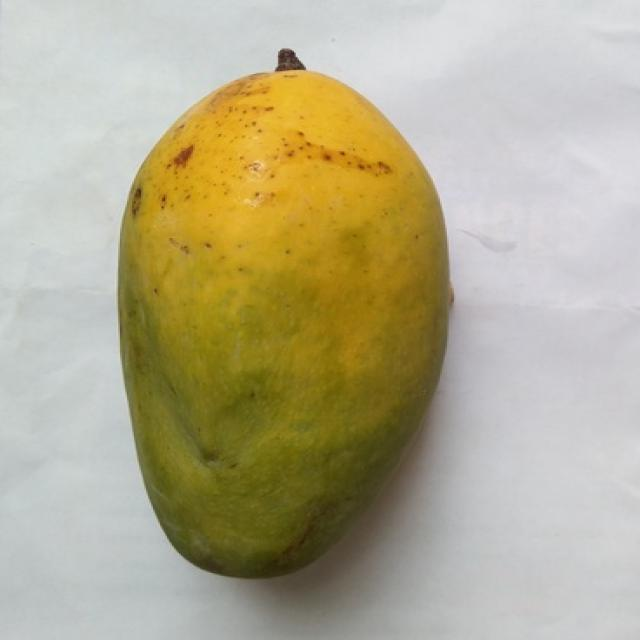Mango: (120, 68, 450, 576)
